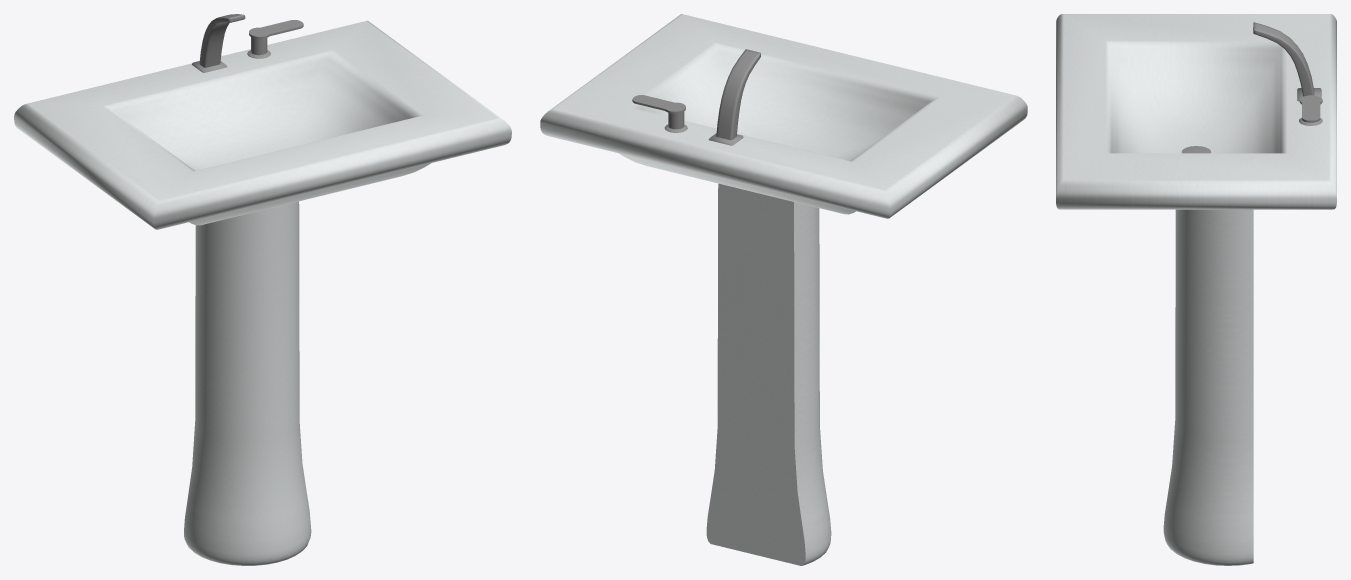
File: Sink01.FBX
The picture shows the model from 3 angles, left to right: view 1: azimuth 30°, elevation 25°; view 2: azimuth 150°, elevation 25°; view 3: azimuth 270°, elevation 25°; orthographic projection. The views are drawn at different scales.
Parts seen in each view (by area): view 1: Sink01; view 2: Sink01; view 3: Sink01.
Boxes of the visible parts, box(x1,y1,x2,y2) form: Sink01: box(14, 14, 511, 565); Sink01: box(540, 14, 1027, 565); Sink01: box(1056, 14, 1336, 565).
Bounding box in the file's own units: 36.25 × 49.76 × 24.54.
